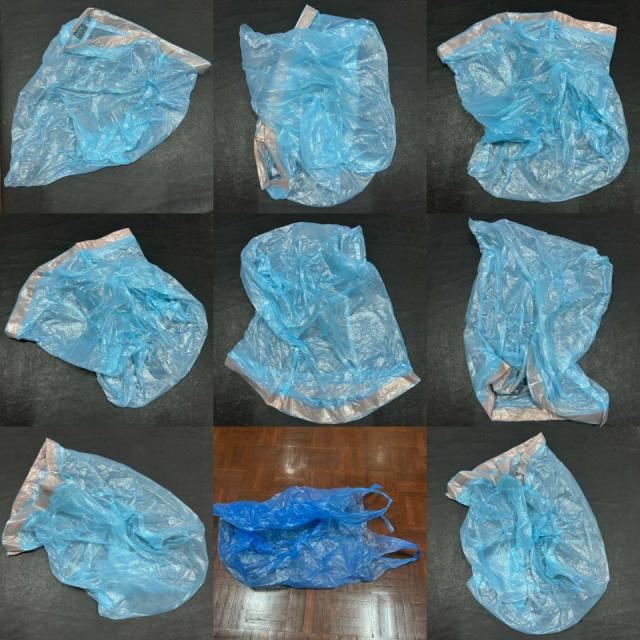Single-layer Plastic: (225, 222, 419, 424), (2, 439, 209, 619), (5, 8, 210, 186), (438, 11, 629, 202), (5, 229, 208, 408), (448, 434, 609, 634), (240, 6, 395, 206), (464, 220, 612, 424), (214, 484, 420, 589)
